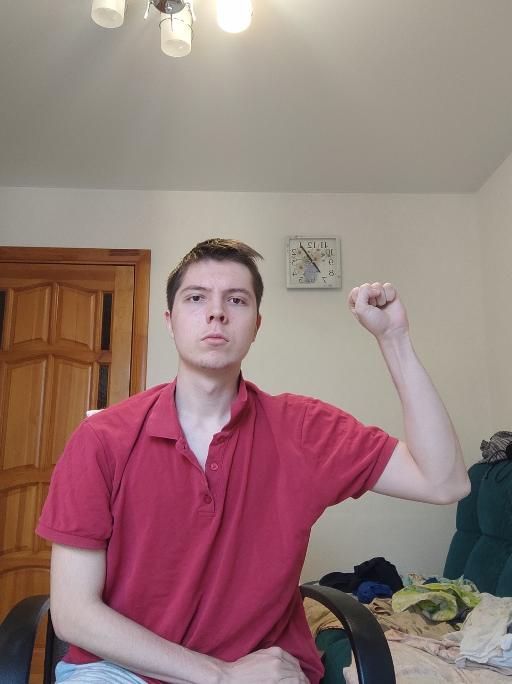fist: (344, 278, 410, 337)
no_gesture: (219, 643, 311, 682)
